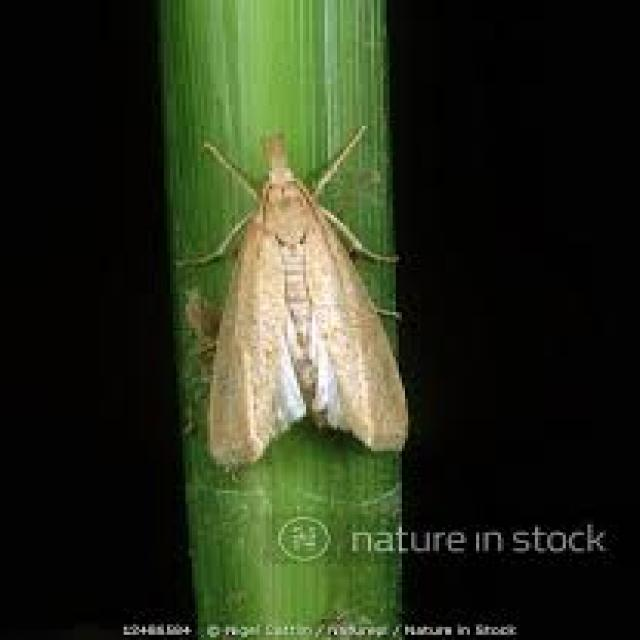yellow-stem-borer: (156, 115, 439, 475)
